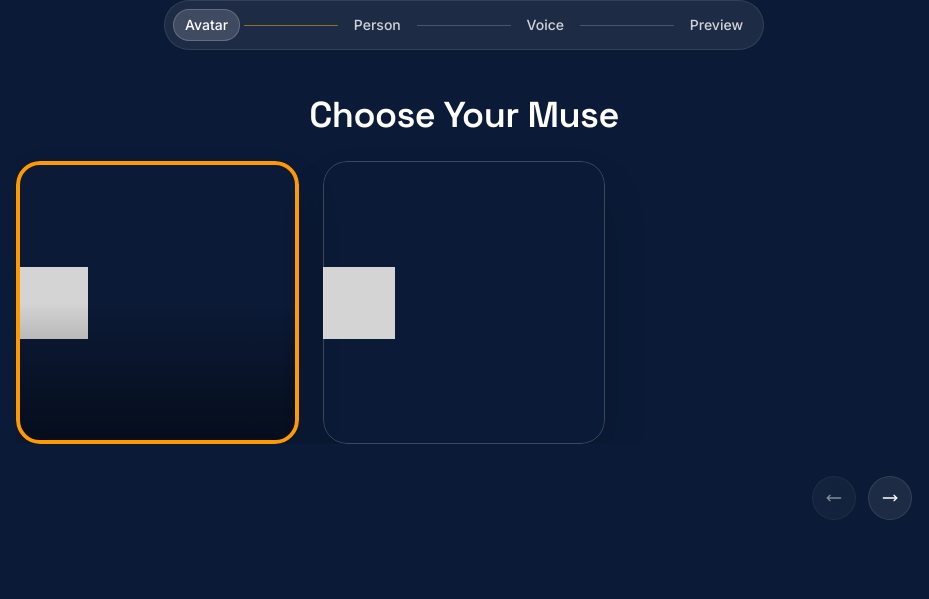
TabForm › snaps an over-cap session back to the free limit and unlocks next
Expected: the heading "Choose Your Muse" is shown, [309,94,619,138]
Click the button named "Go to next tab" at [890, 498], box [868,476,912,520]
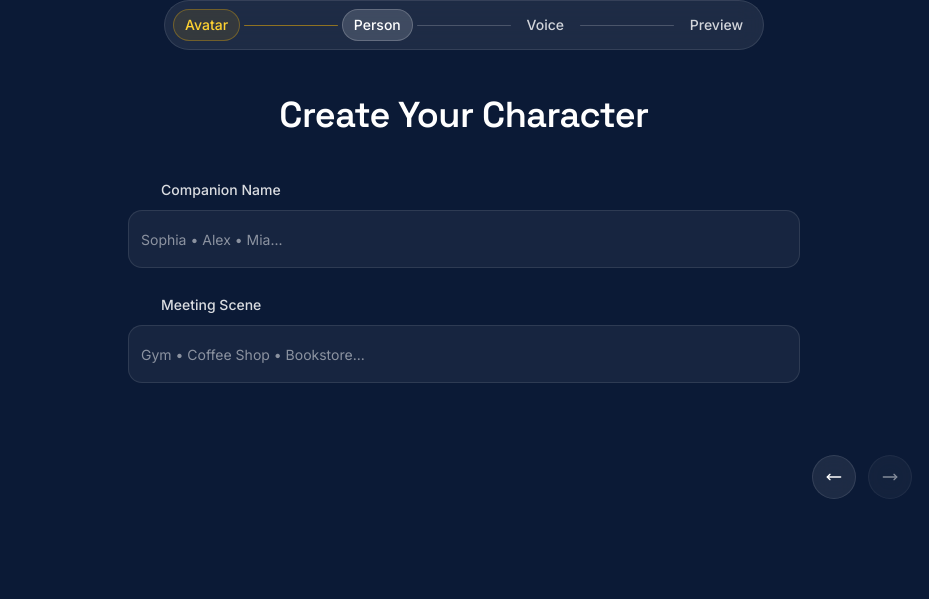
Type "Mia" into the field with placeholder "Sophia • Alex • Mia..." at [464, 240], box [128,210,800,268]
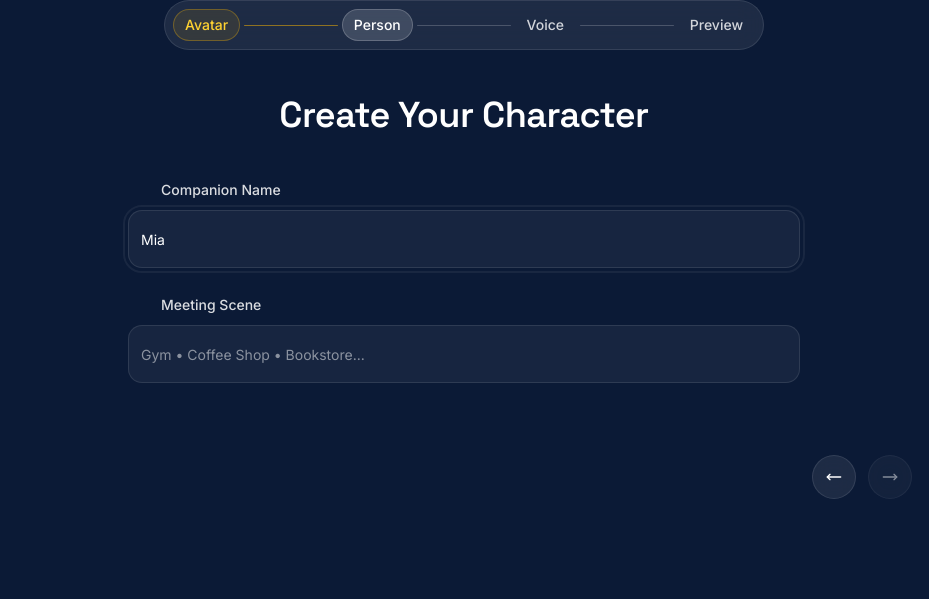
Type "Gym" into the field with placeholder "Gym • Coffee Shop • Bookstore..." at [464, 354], box [128,326,800,384]
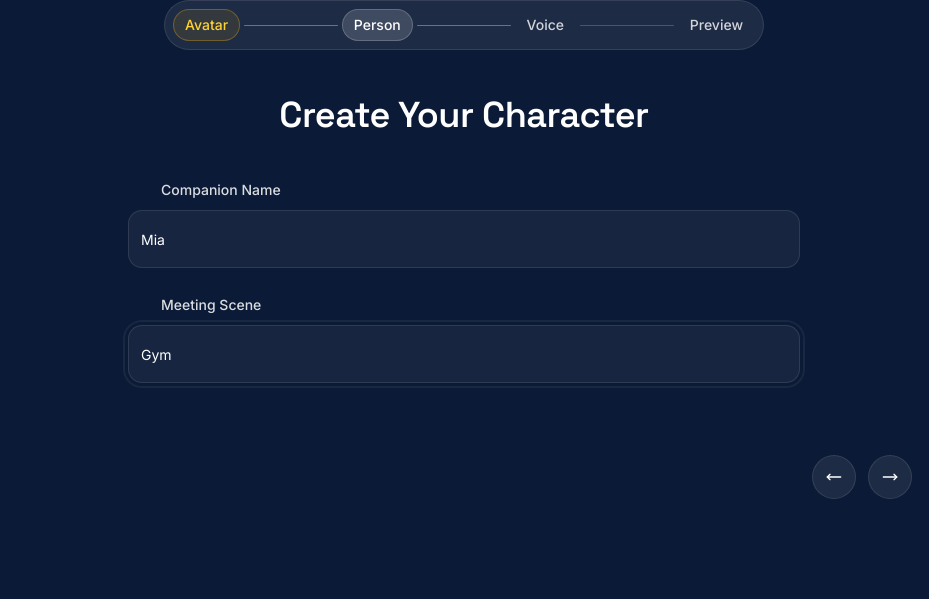
Click the button named "Go to next tab" at [890, 478], box [868,456,912,500]
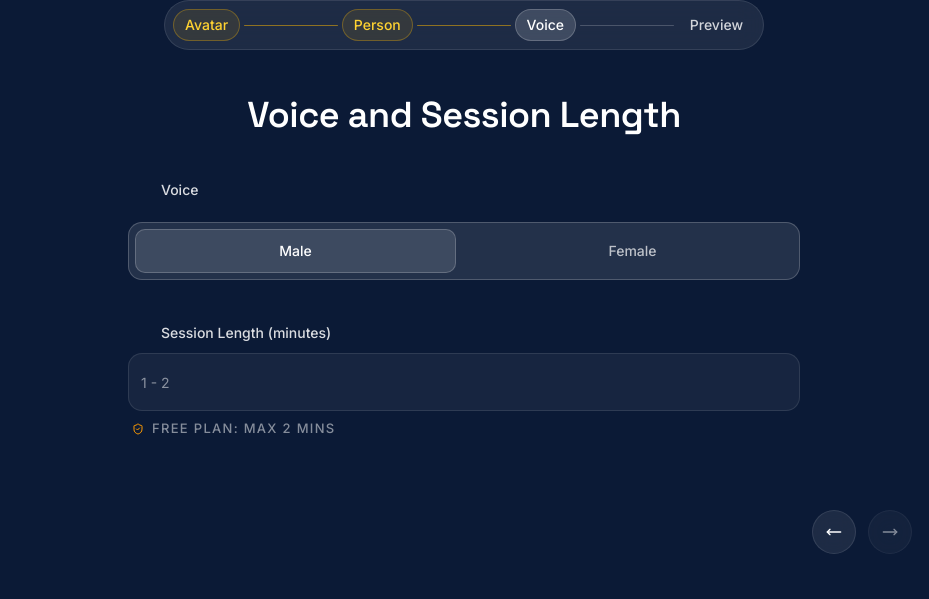
Type "10" into the number field with placeholder "1 - 2" at [464, 382], box [128,354,800,412]
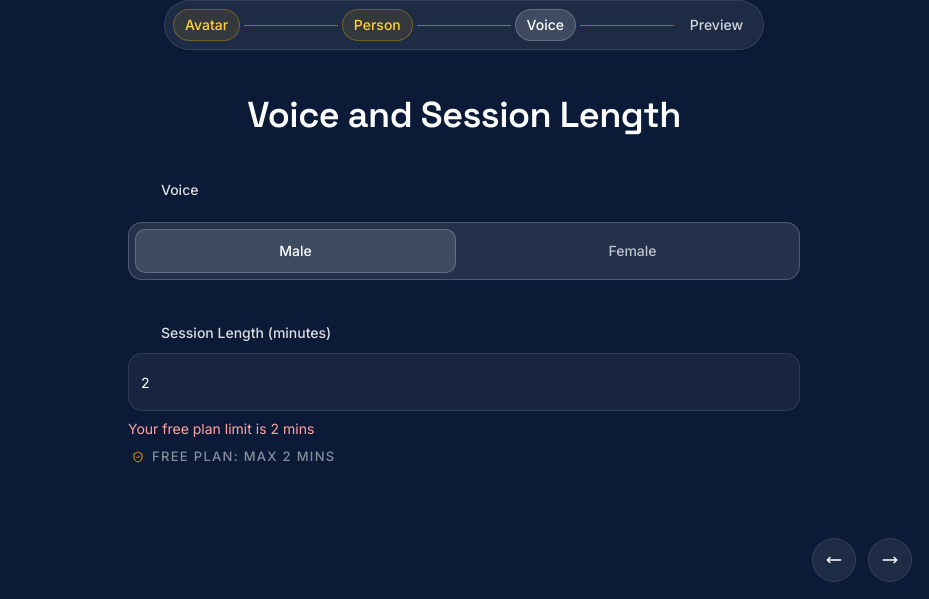
Result: the number field with placeholder "1 - 2" holds "2" at [128,354,800,412]
Result: the text "Your free plan limit is 2 mins" is shown at [128,420,314,438]
Result: the button named "Go to next tab" is enabled at [868,538,912,582]
